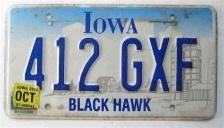1: (50, 35, 73, 92)
2: (76, 35, 105, 92)
4: (23, 35, 48, 92)
F: (172, 33, 202, 93)
G: (118, 34, 145, 94)
X: (146, 35, 172, 93)
